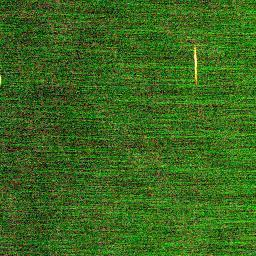Ship: (189, 46, 200, 84)
